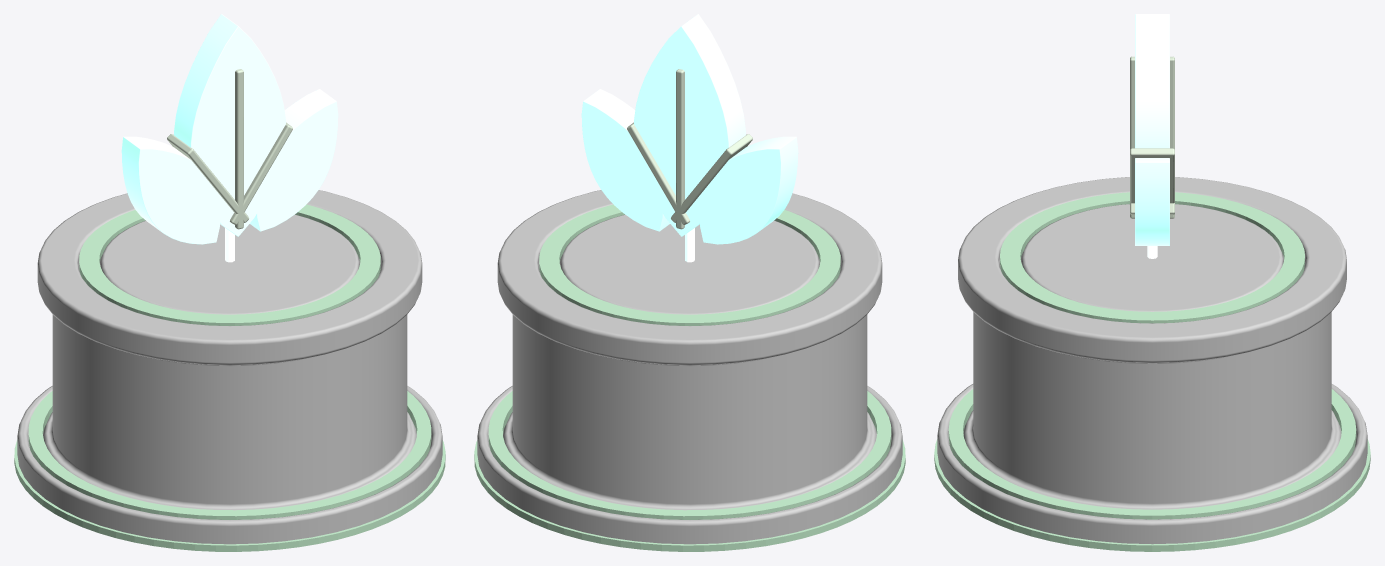
File: Lobby_PED_Emerald.fbx
The picture shows the model from 3 angles, left to right: view 1: azimuth 30°, elevation 25°; view 2: azimuth 150°, elevation 25°; view 3: azimuth 270°, elevation 25°; orthographic projection.
Visible parts, largest first — view 1: Lobby_PED_Emerald__PedestalMarble, Lobby_PED_Emerald__Glyph_Emerald, Lobby_PED_Emerald__PedNeon_Emerald, Lobby_PED_Emerald__Glyph_EmeraldVein; view 2: Lobby_PED_Emerald__PedestalMarble, Lobby_PED_Emerald__Glyph_Emerald, Lobby_PED_Emerald__PedNeon_Emerald, Lobby_PED_Emerald__Glyph_EmeraldVein; view 3: Lobby_PED_Emerald__PedestalMarble, Lobby_PED_Emerald__PedNeon_Emerald, Lobby_PED_Emerald__Glyph_Emerald, Lobby_PED_Emerald__Glyph_EmeraldVein.
Boxes of the visible parts, x1,y1,x2,y2 form: Lobby_PED_Emerald__PedestalMarble: [17, 190, 442, 544]; Lobby_PED_Emerald__Glyph_Emerald: [121, 14, 338, 244]; Lobby_PED_Emerald__PedNeon_Emerald: [14, 204, 445, 551]; Lobby_PED_Emerald__Glyph_EmeraldVein: [167, 69, 292, 229]; Lobby_PED_Emerald__PedestalMarble: [477, 190, 902, 544]; Lobby_PED_Emerald__Glyph_Emerald: [581, 14, 798, 244]; Lobby_PED_Emerald__PedNeon_Emerald: [474, 204, 905, 551]; Lobby_PED_Emerald__Glyph_EmeraldVein: [627, 69, 752, 229]; Lobby_PED_Emerald__PedestalMarble: [937, 177, 1367, 544]; Lobby_PED_Emerald__PedNeon_Emerald: [934, 192, 1370, 551]; Lobby_PED_Emerald__Glyph_Emerald: [1135, 14, 1169, 245]; Lobby_PED_Emerald__Glyph_EmeraldVein: [1130, 56, 1174, 218].
Size of the model in its own units: 4.26 by 4.82 by 4.26.
